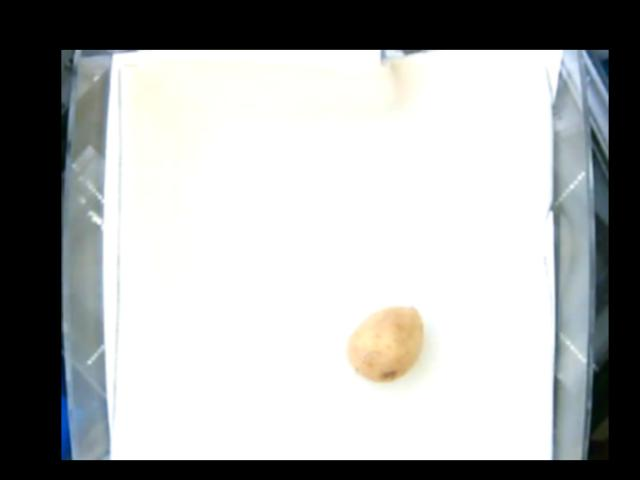Potato: (346, 307, 421, 382)
